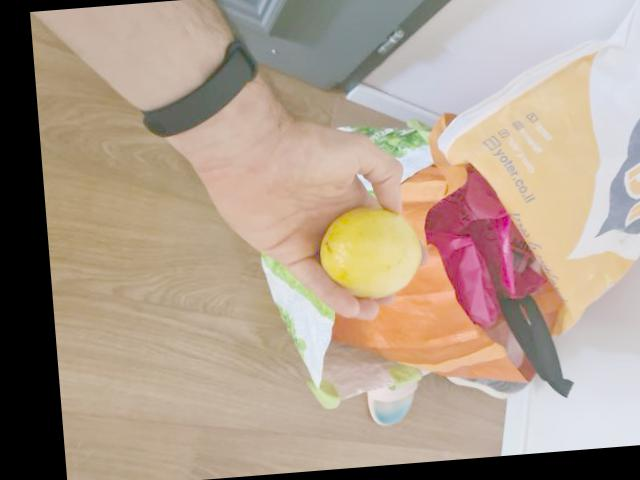lemon: (312, 205, 424, 293)
